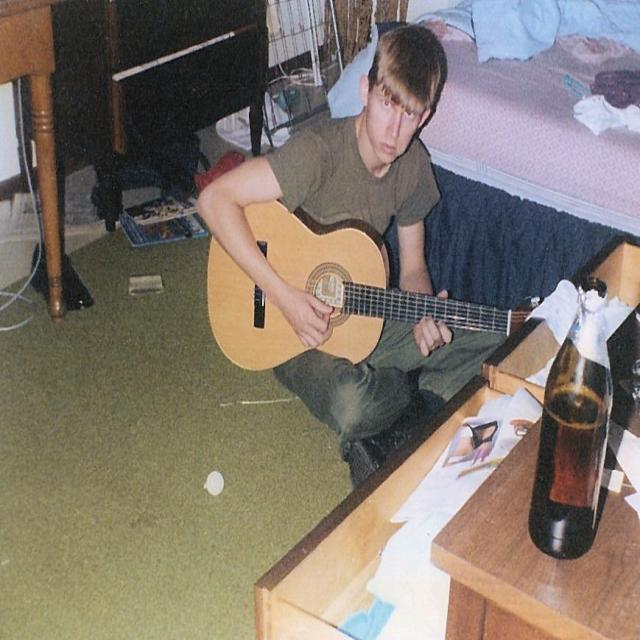guitar: (207, 196, 537, 373)
